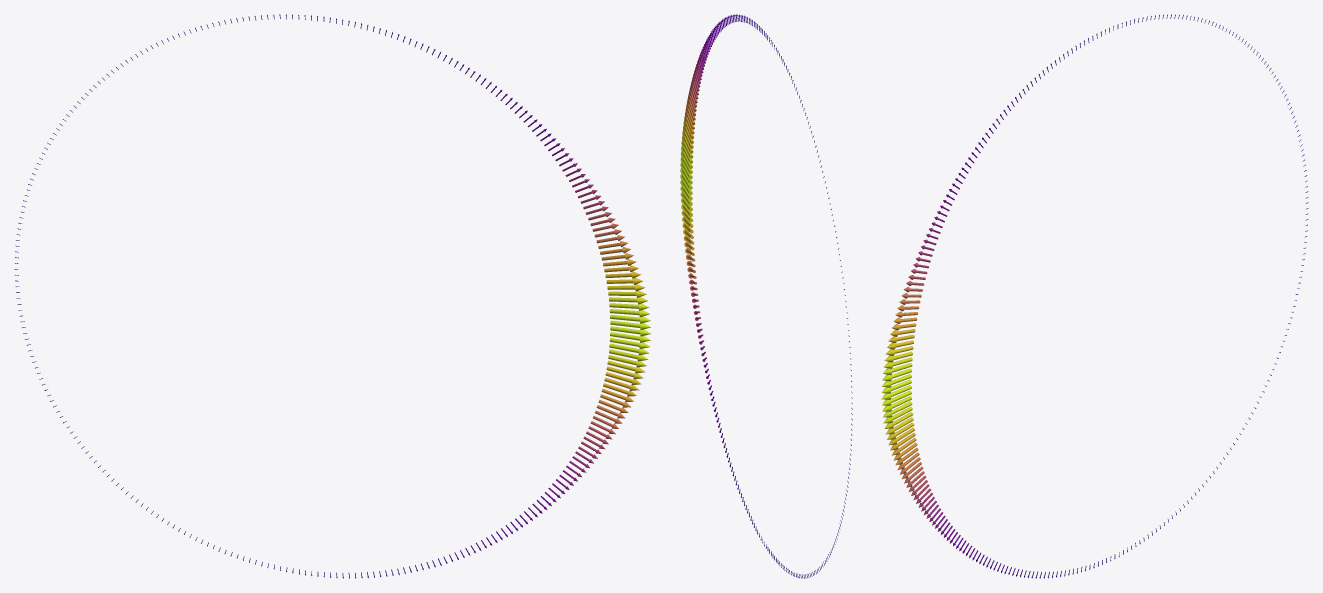
The model's file is coil_7_forces.gltf.
3 renders of one model, left to right at view 1: azimuth 30°, elevation 25°; view 2: azimuth 150°, elevation 25°; view 3: azimuth 270°, elevation 25°, orthographic. The views are drawn at different scales.
Visible parts, largest first — view 1: Renderer Node; view 2: Renderer Node; view 3: Renderer Node.
Part boxes in pixels (box(x1,y1,x2,y2)): Renderer Node: box(14, 14, 651, 578); Renderer Node: box(680, 14, 852, 578); Renderer Node: box(881, 14, 1308, 578).
Bounding box in the file's own units: 0.4693 × 0.6121 × 0.4443.
1 material, 1 textured.
